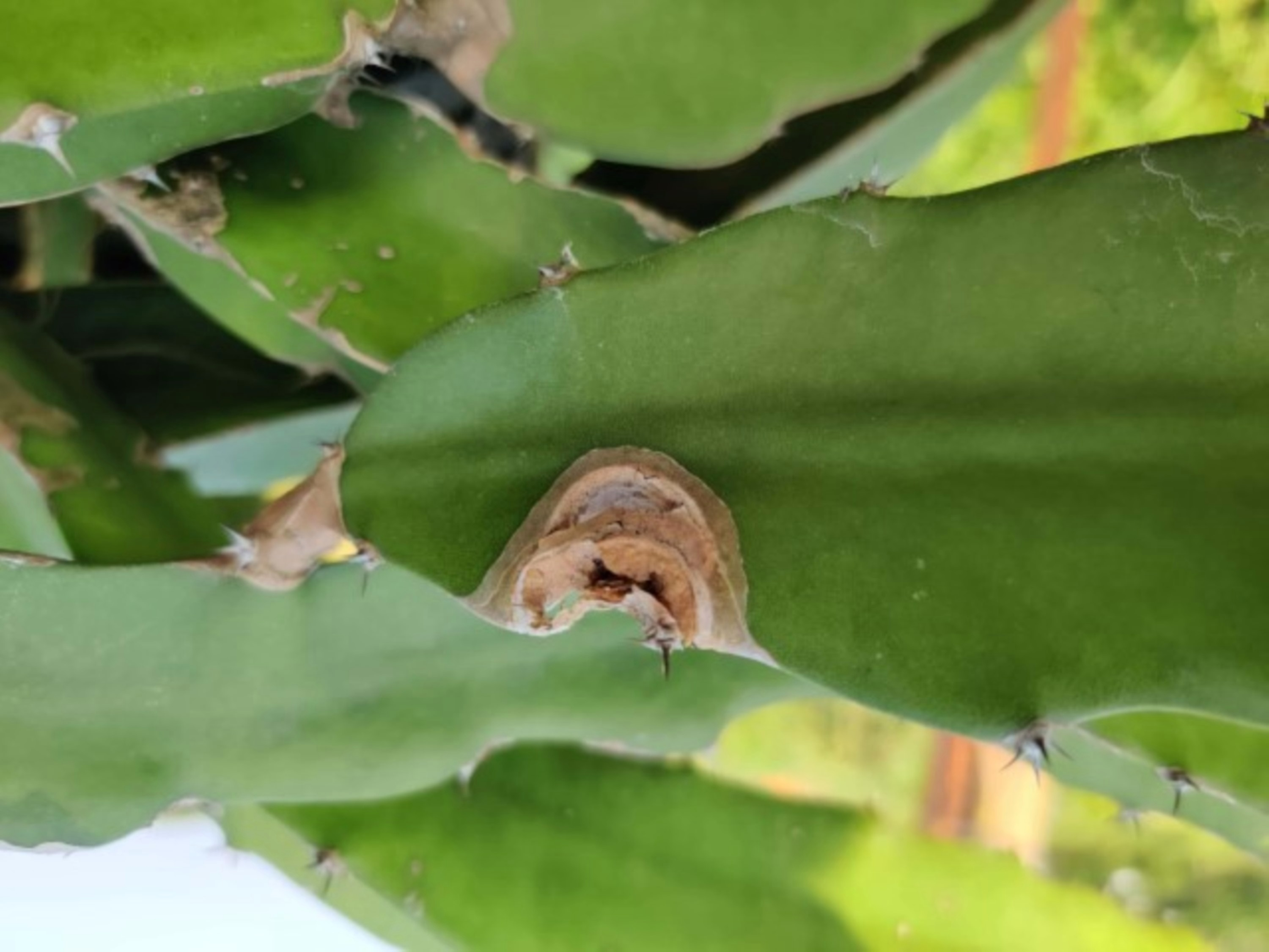stemcanker: (326, 368, 833, 743)
